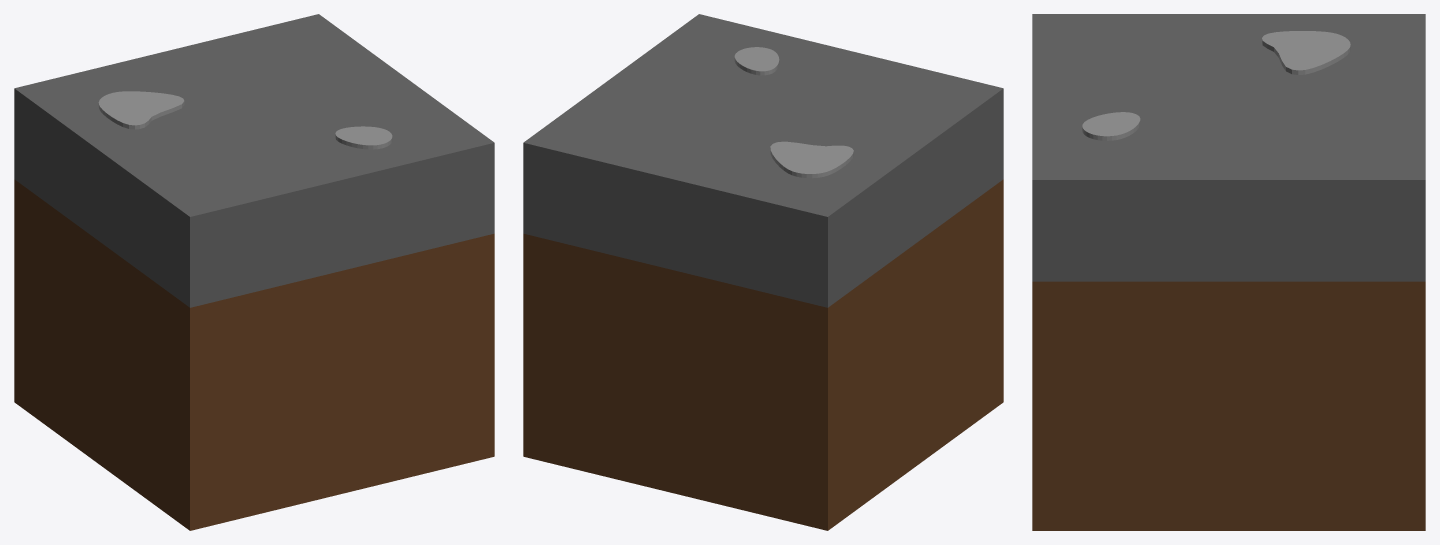
File: Basement 3.fbx
3 views of the same model, side by side, from view 1: azimuth 30°, elevation 25°; view 2: azimuth 150°, elevation 25°; view 3: azimuth 270°, elevation 25° (orthographic). The views are drawn at different scales.
Visible parts, largest first — view 1: Basement 3; view 2: Basement 3; view 3: Basement 3.
Boxes of the visible parts, x1,y1,x2,y2 form: Basement 3: [14, 14, 494, 530]; Basement 3: [523, 14, 1003, 530]; Basement 3: [1032, 14, 1425, 530].
Size of the model in its own units: 2 by 2 by 2.
